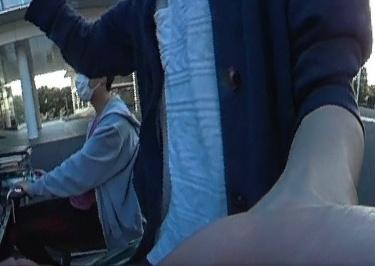person: (26, 61, 136, 266)
